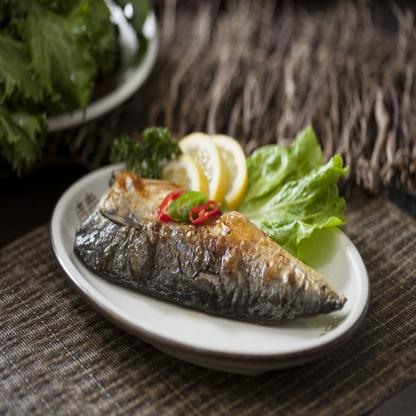Peixe: (71, 175, 347, 340)
